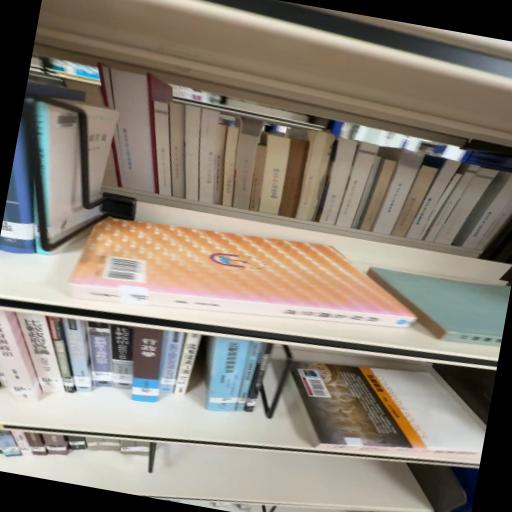flat: (69, 220, 416, 329), (290, 362, 487, 463)
